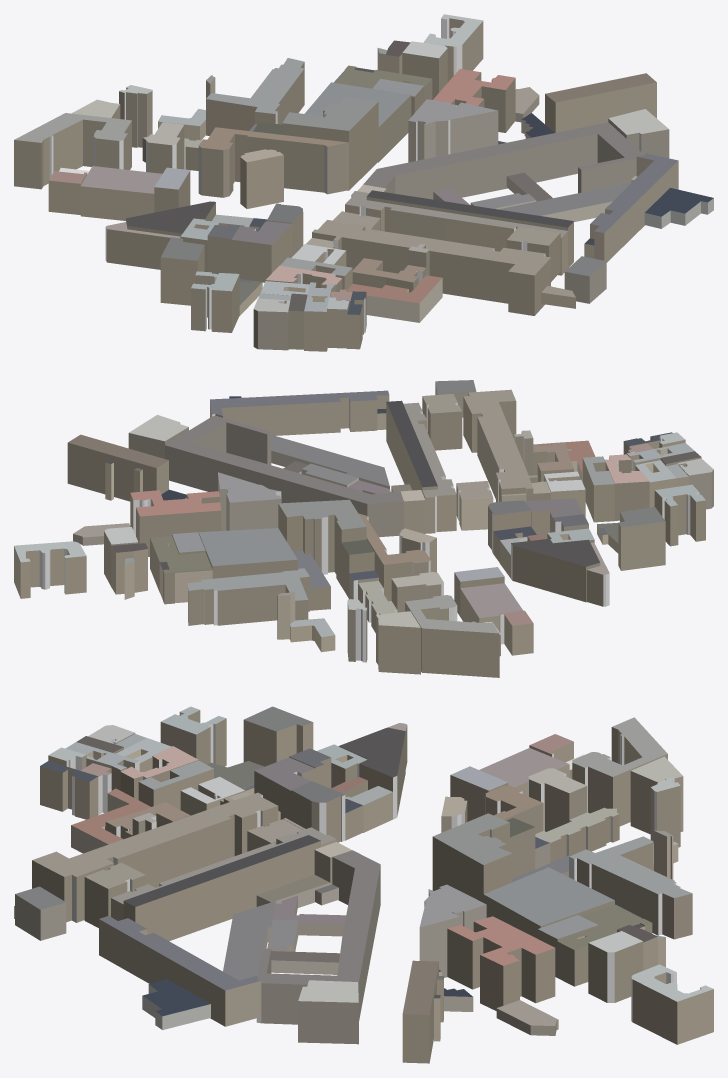
3 views of the same model, one above another, from view 1: azimuth 30°, elevation 25°; view 2: azimuth 150°, elevation 25°; view 3: azimuth 270°, elevation 25° (orthographic). The views are drawn at different scales.
Parts seen in each view (by area): view 1: tuile; view 2: tuile; view 3: tuile.
Boxes of the visible parts, left/top/right/bottom form: tuile: left=14, top=14, right=713, bottom=351; tuile: left=14, top=380, right=713, bottom=677; tuile: left=14, top=706, right=713, bottom=1063.
Bounding box in the file's own units: 284 × 31.99 × 272.
